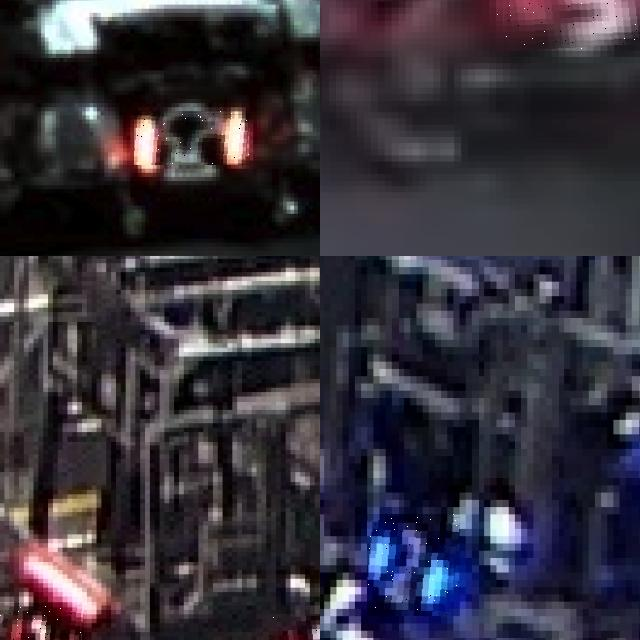B2: (367, 514, 460, 616)
R2: (0, 603, 84, 640)
R5: (496, 0, 640, 50)
Rs: (134, 111, 250, 165)
